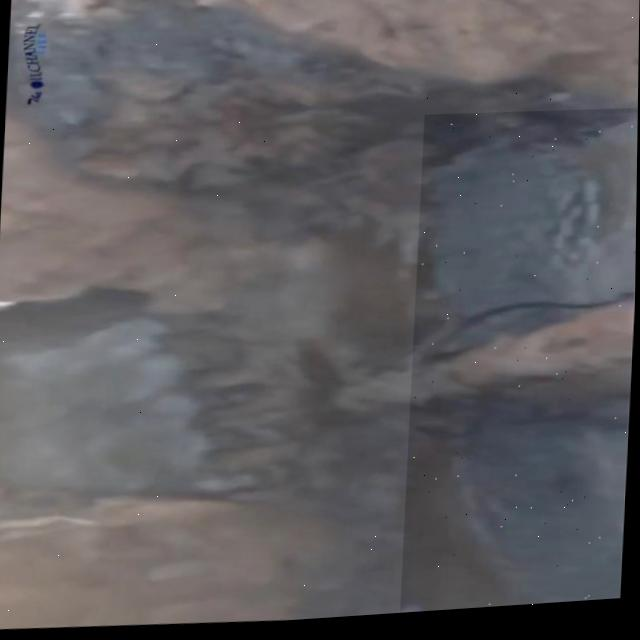spillage: (402, 116, 638, 619)
